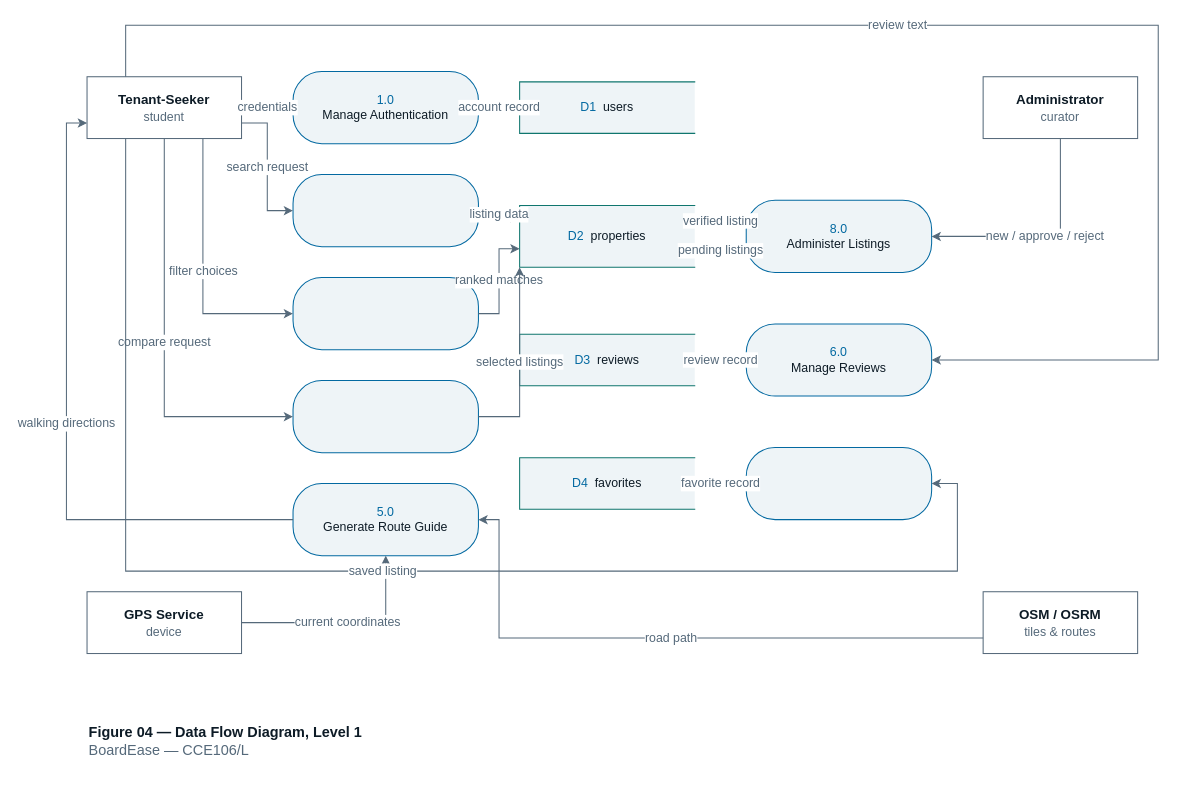
This 1185x785 diagram has some shape labels left out. The shapes that lost their labels are listed below. From the top down, each one's centre as x and y in pixels, then its label:
At (x=385, y=210): "2.0 Search & Compute Distance".
At (x=385, y=313): "3.0 Filter & Rank Matches".
At (x=385, y=416): "4.0 Compare Listings".
At (x=838, y=483): "7.0 Manage Favorites".
